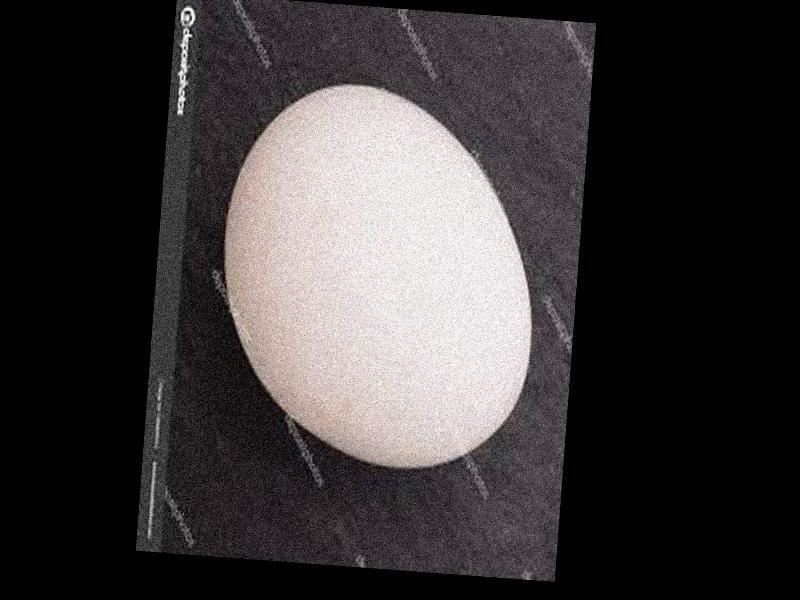Eggs: (208, 76, 546, 476)
